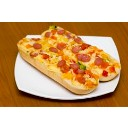pepperonipizza: (17, 25, 122, 88)
